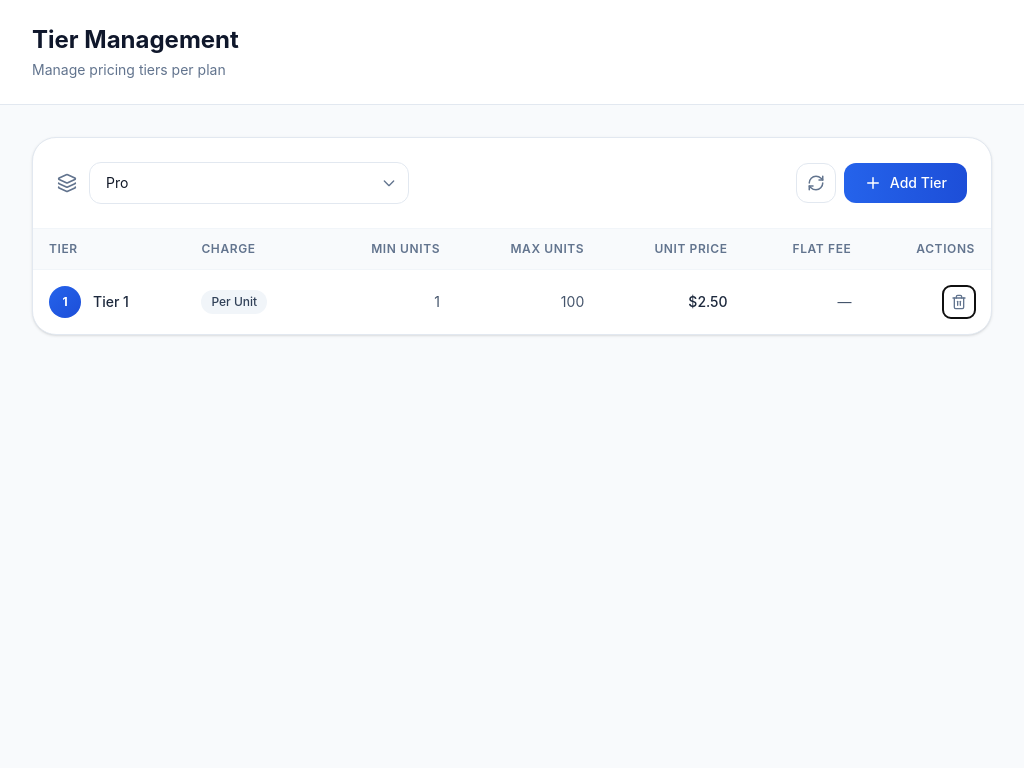
Test: BUG-09.3 dialog keyboard behaviour › Escape cancels the remove confirmation without removing
Click the button named "Remove tier 1": [959, 302] box x1=943 y1=286 x2=975 y2=318
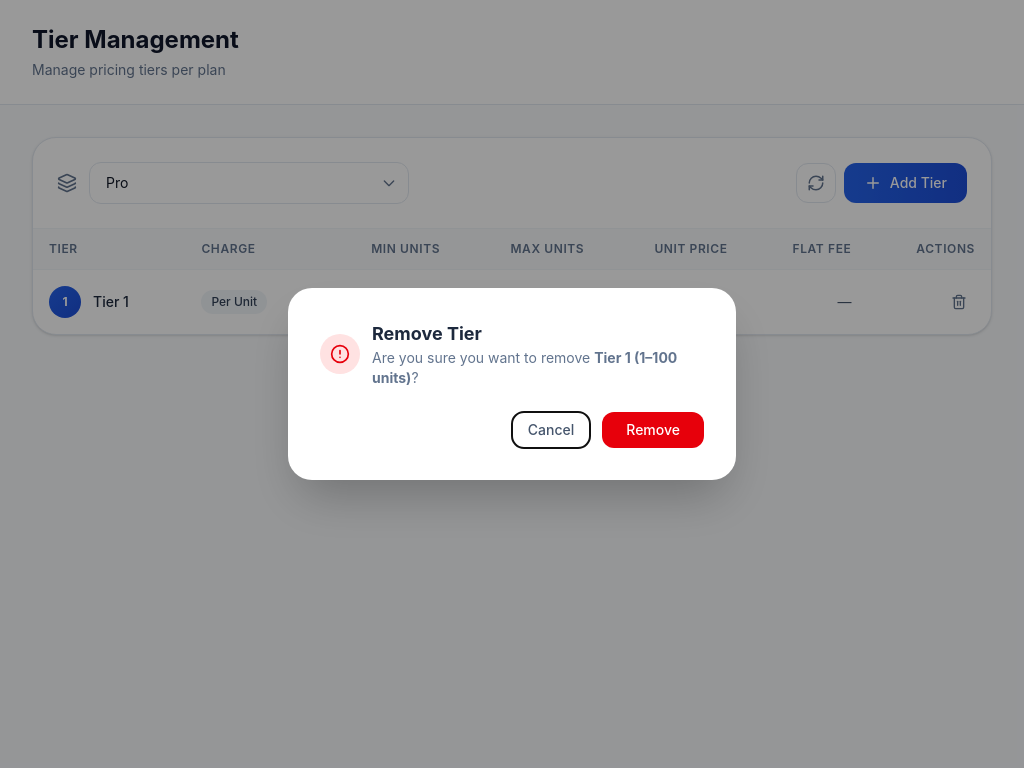
Expected: the dialog is shown, x1=288 y1=288 x2=736 y2=480
Press Escape
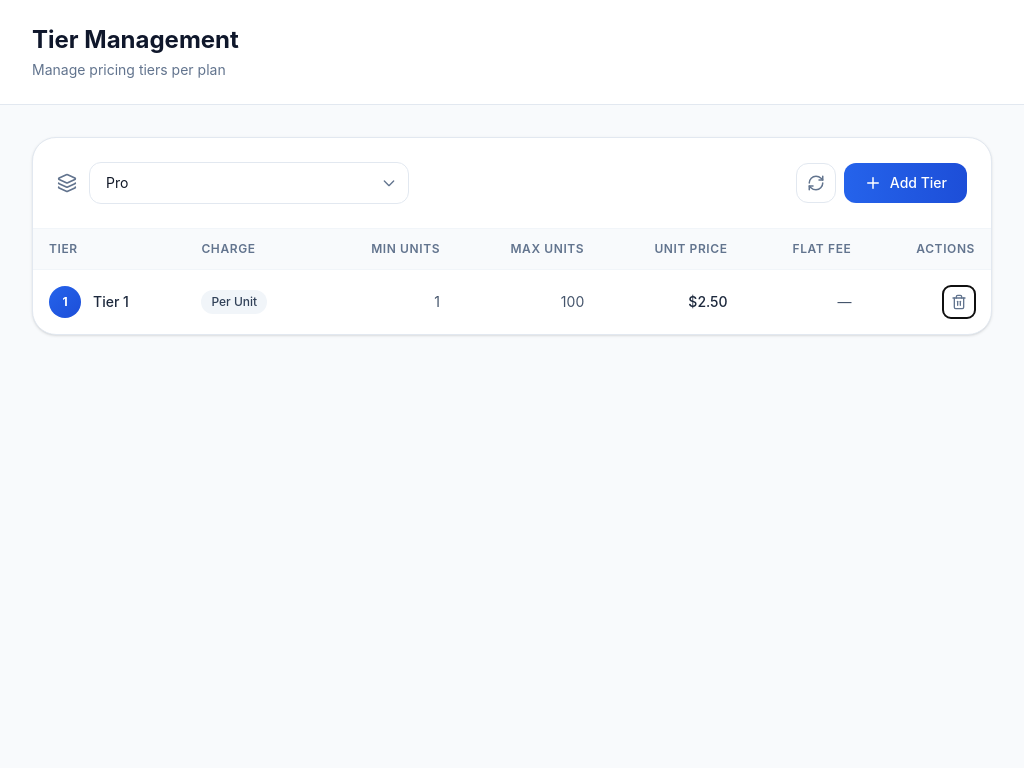
Expected: the dialog is gone
